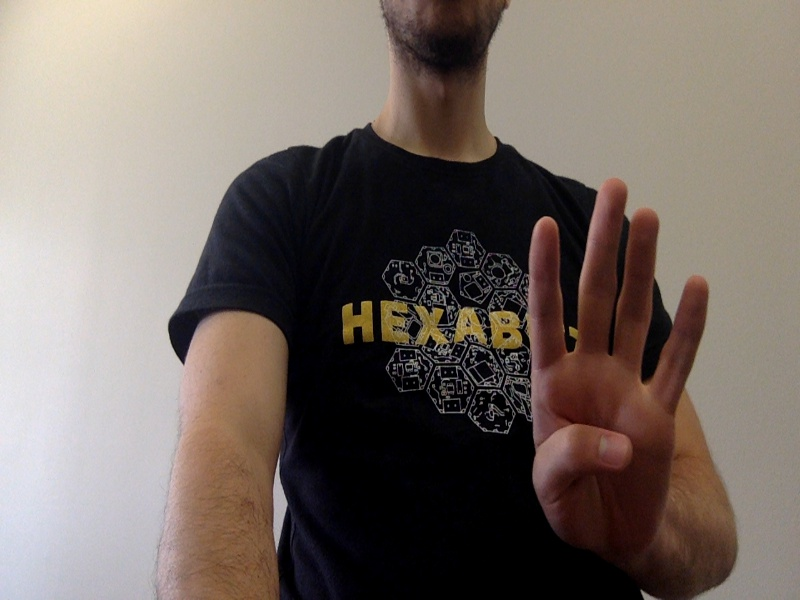4-hand: (527, 180, 708, 550)
